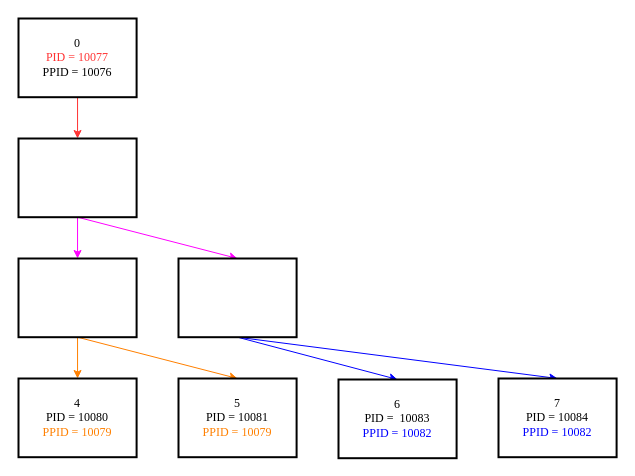
Some shapes in this 635 by 476 pixel diagram are drawn without their labels. The centre of each missing label's shape, as x and y in pixels:
"1 PID = 10078 PPID = 10077" belongs at point (77, 177).
"2 PID = 10079 PPID = 10078" belongs at point (77, 297).
"3 PID = 10082 PPID = 10078" belongs at point (237, 297).
